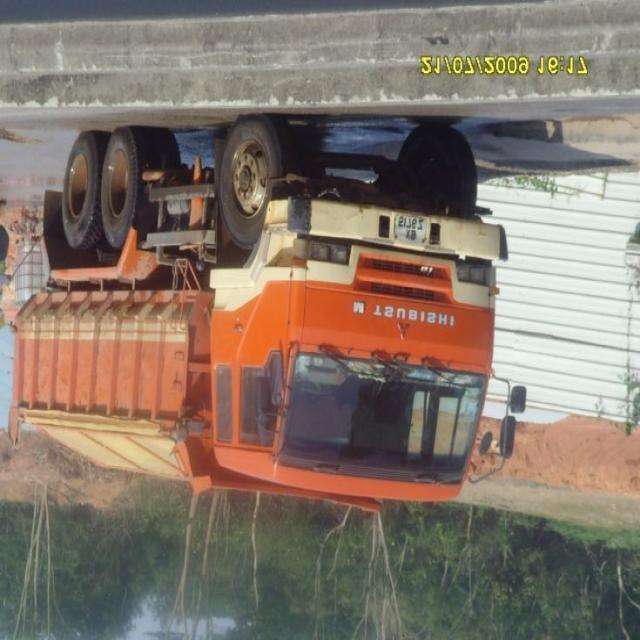truck: (7, 114, 515, 514)
